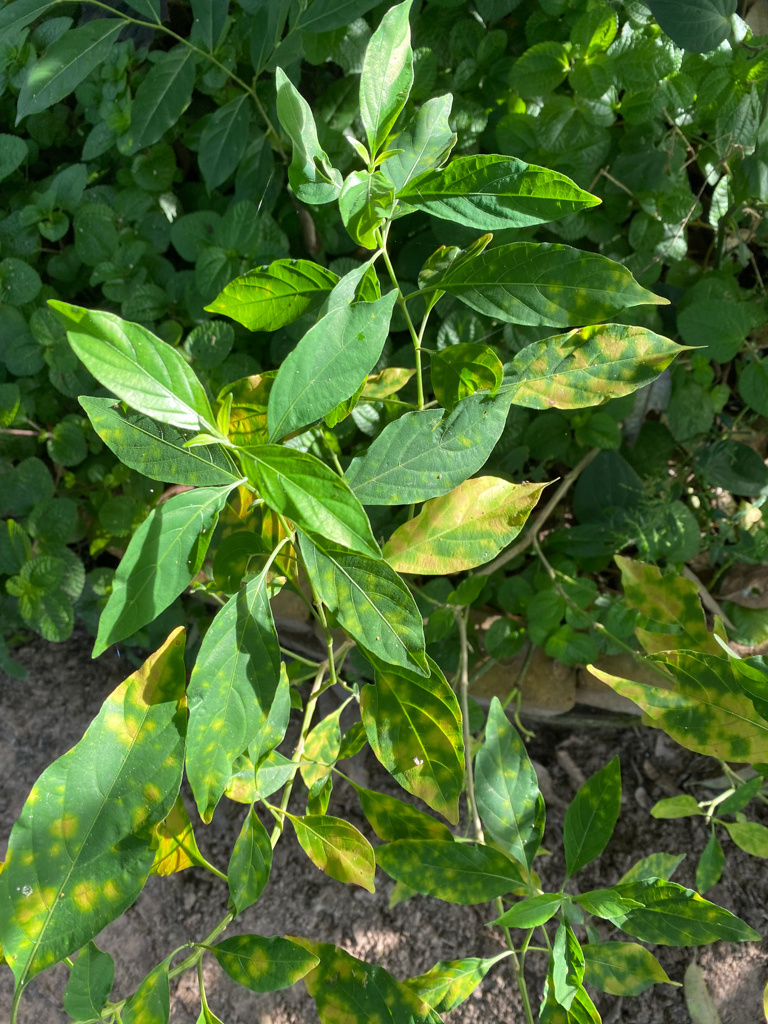Pepper yellow leaf: (3, 621, 191, 985), (583, 646, 763, 768), (372, 465, 563, 578), (497, 322, 713, 415), (357, 649, 463, 836), (293, 937, 441, 1022), (378, 836, 531, 902), (290, 811, 380, 892), (576, 937, 683, 1002), (216, 934, 314, 992), (404, 955, 488, 1013), (296, 704, 345, 792)
